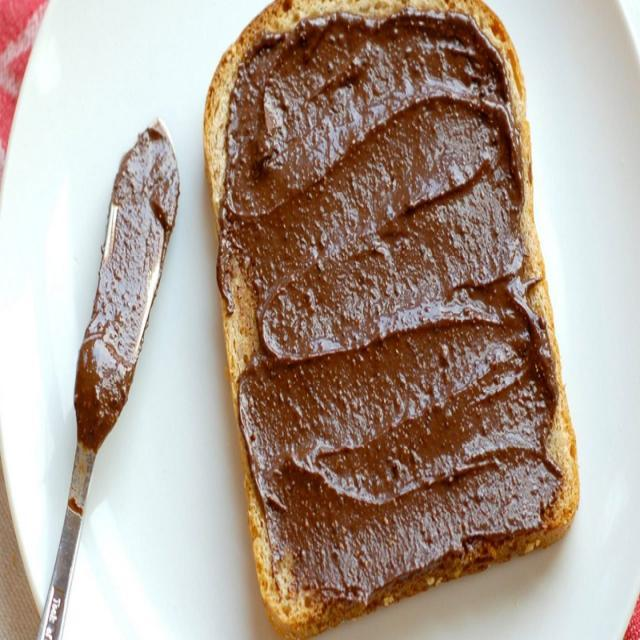Spread: (215, 20, 559, 578)
